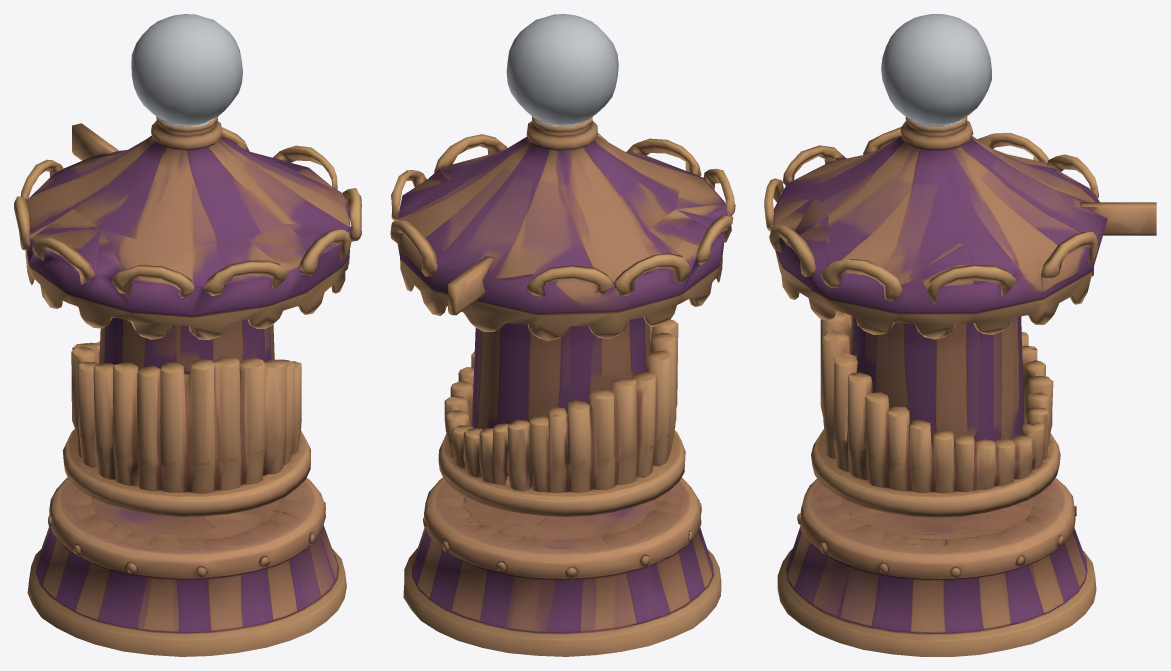
The model's file is engineer_calliope_tower_tripo.glb.
The picture shows the model from 3 angles, left to right: view 1: azimuth 30°, elevation 25°; view 2: azimuth 150°, elevation 25°; view 3: azimuth 270°, elevation 25°; orthographic projection.
Parts seen in each view (by area): view 1: tripo_node_bc750419-ac2a-4cc1-982a-3e8d88ce48d2; view 2: tripo_node_bc750419-ac2a-4cc1-982a-3e8d88ce48d2; view 3: tripo_node_bc750419-ac2a-4cc1-982a-3e8d88ce48d2.
Part boxes in pixels (x1,y1,x2,y2): tripo_node_bc750419-ac2a-4cc1-982a-3e8d88ce48d2: (14, 14, 361, 656); tripo_node_bc750419-ac2a-4cc1-982a-3e8d88ce48d2: (390, 14, 735, 656); tripo_node_bc750419-ac2a-4cc1-982a-3e8d88ce48d2: (764, 14, 1156, 656).
Bounding box in the file's own units: 0.5488 × 0.998 × 0.623.
Materials: 1 (1 with a texture image).
